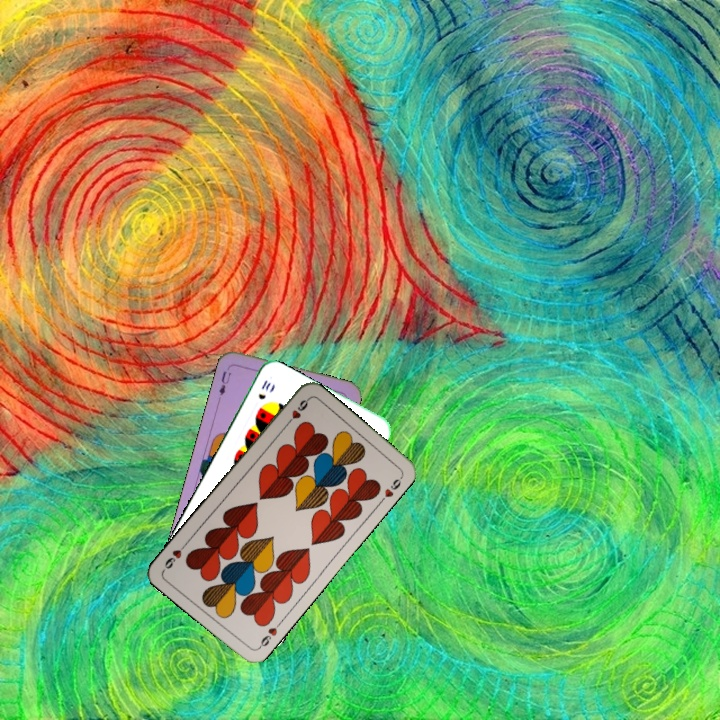EU: (213, 367, 234, 402)
H9: (282, 395, 312, 429), (254, 617, 284, 651)
S10: (254, 376, 273, 402)
